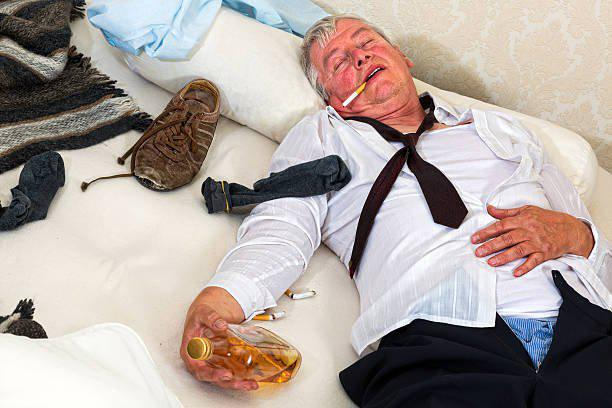Drunk: (309, 25, 408, 109)
